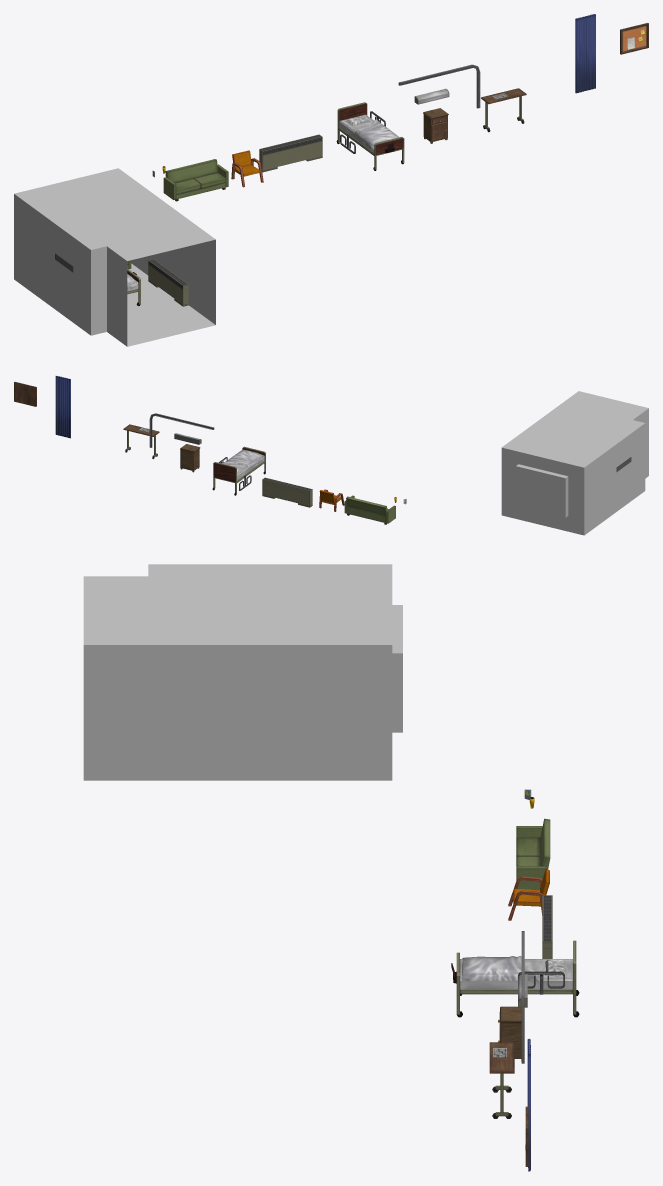
Rendered from Curtain.FBX.
3 renders of one model, top to bottom at view 1: azimuth 30°, elevation 25°; view 2: azimuth 150°, elevation 25°; view 3: azimuth 270°, elevation 25°, orthographic. The views are drawn at different scales.
Parts seen in each view (by area): view 1: Box007, Couch001, Box032, Heater001, Bedframe001, Heater002, Chair001, Board001, Blanket001, Rail001, Eating table001; view 2: Box007, Sky, Heater001, Box032, Couch001, Bedframe001, Nightstand001, Board001, Blanket001, Rail001, Chair001, Eating table001; view 3: Box007, Couch001, Bedframe001, Blanket001, mattress001, Sky, Eating table001, Chair001, Nightstand001.
Boxes of the visible parts, box(x1,y1,x2,y2) form: Box007: box(14, 168, 215, 346); Couch001: box(163, 159, 228, 201); Box032: box(575, 14, 595, 93); Heater001: box(259, 134, 322, 172); Bedframe001: box(336, 102, 404, 170); Heater002: box(148, 259, 188, 306); Chair001: box(231, 150, 263, 187); Board001: box(620, 23, 648, 54); Blanket001: box(354, 119, 398, 149); Rail001: box(398, 64, 480, 108); Eating table001: box(481, 88, 526, 132); Box007: box(501, 391, 648, 535); Sky: box(516, 464, 568, 517); Heater001: box(262, 477, 312, 507); Box032: box(55, 376, 70, 438); Couch001: box(344, 495, 395, 524); Bedframe001: box(212, 446, 265, 495); Nightstand001: box(180, 444, 200, 472); Board001: box(14, 382, 36, 406); Blanket001: box(222, 449, 263, 467); Rail001: box(149, 413, 214, 447); Chair001: box(319, 489, 344, 511); Eating table001: box(123, 424, 159, 459); Box007: box(83, 564, 392, 780); Couch001: box(516, 818, 550, 889); Bedframe001: box(451, 940, 579, 1017); Blanket001: box(462, 956, 543, 982); mattress001: box(460, 959, 572, 989); Sky: box(392, 605, 402, 732); Eating table001: box(489, 1042, 514, 1118); Chair001: box(508, 869, 549, 920); Nightstand001: box(500, 1006, 521, 1061).
Bounding box in the file's own units: 2753 × 333 × 1102.
